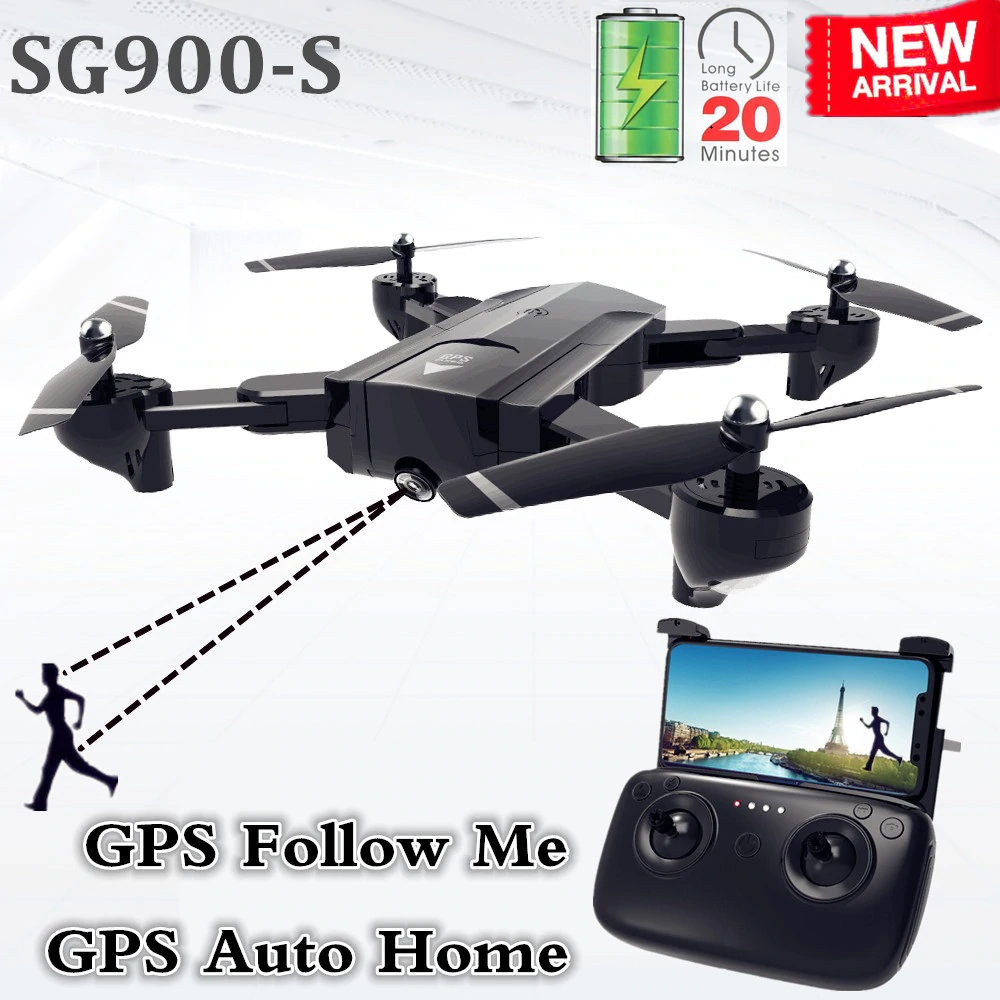drone: (14, 230, 987, 612)
